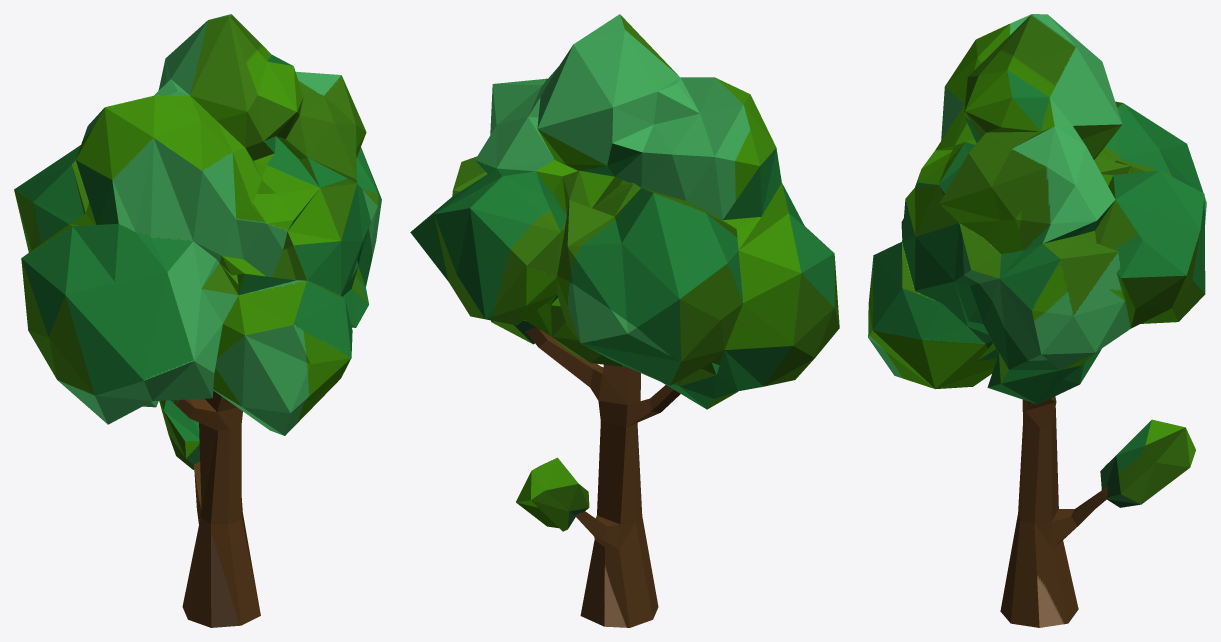
File: tree4.glb
3 renders of one model, left to right at view 1: azimuth 30°, elevation 25°; view 2: azimuth 150°, elevation 25°; view 3: azimuth 270°, elevation 25°, orthographic.
Parts seen in each view (by area): view 1: _4_tree; view 2: _4_tree; view 3: _4_tree.
Boxes of the visible parts, left/top/right/bottom form: _4_tree: left=14, top=14, right=381, bottom=627; _4_tree: left=410, top=14, right=839, bottom=627; _4_tree: left=868, top=14, right=1206, bottom=627.
Bounding box in the file's own units: 1.1 × 1.8 × 0.9209.
Materials: 1 (1 with a texture image).
